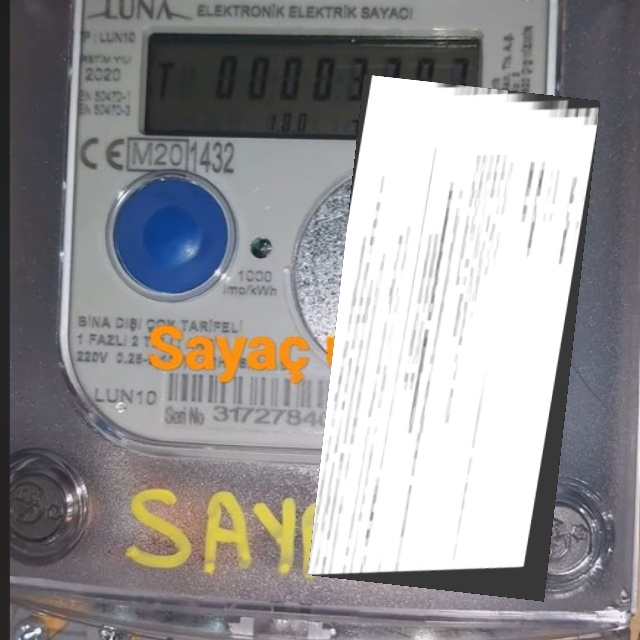electricity-bill: (308, 74, 600, 602)
